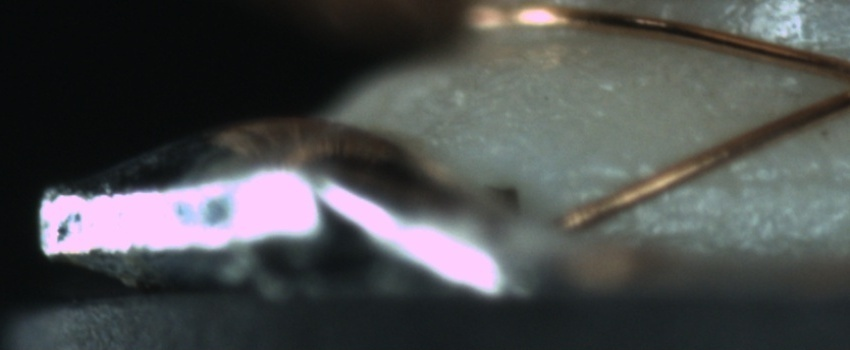CL: (831, 58, 850, 108)
DL: (569, 147, 845, 210)
